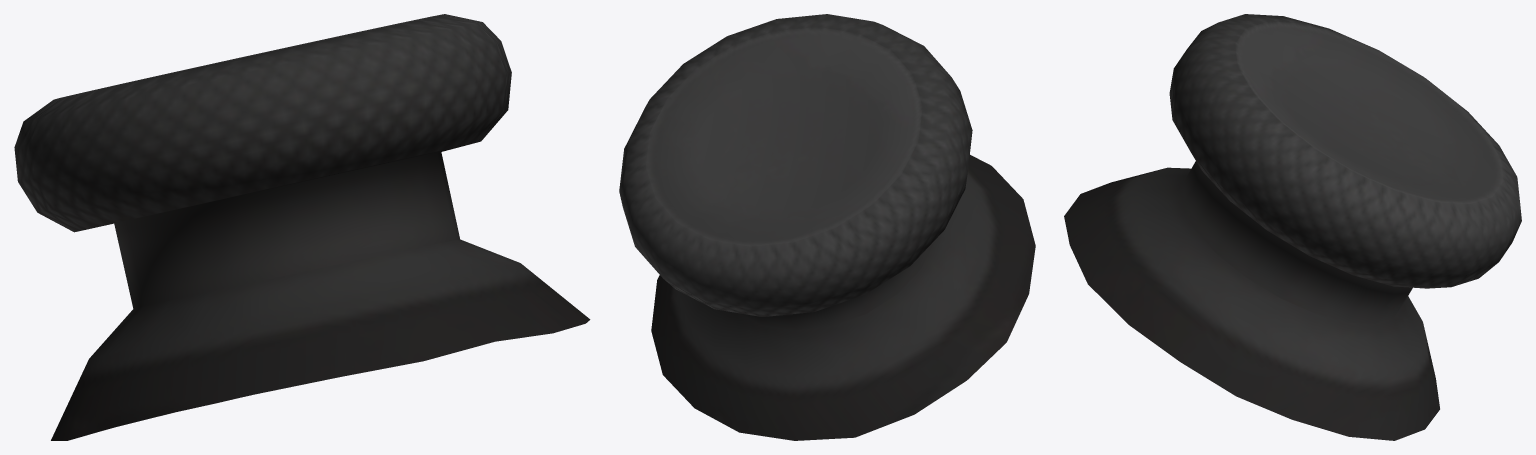
The model's file is right_joystick.obj.
The picture shows the model from 3 angles, left to right: view 1: azimuth 30°, elevation 25°; view 2: azimuth 150°, elevation 25°; view 3: azimuth 270°, elevation 25°; orthographic projection. The views are drawn at different scales.
Parts seen in each view (by area): view 1: right_joystick; view 2: right_joystick; view 3: right_joystick.
Boxes of the visible parts, bbox=[...] form: right_joystick: bbox=[14, 14, 590, 440]; right_joystick: bbox=[619, 14, 1035, 440]; right_joystick: bbox=[1064, 14, 1521, 440].
Size of the model in its own units: 0.015 by 0.014 by 0.0163.
Materials: 1 (1 with a texture image).
